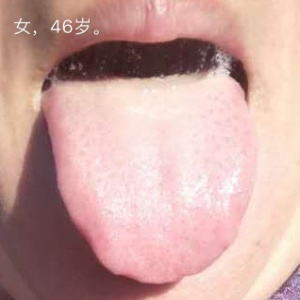st: (39, 83, 261, 283)
